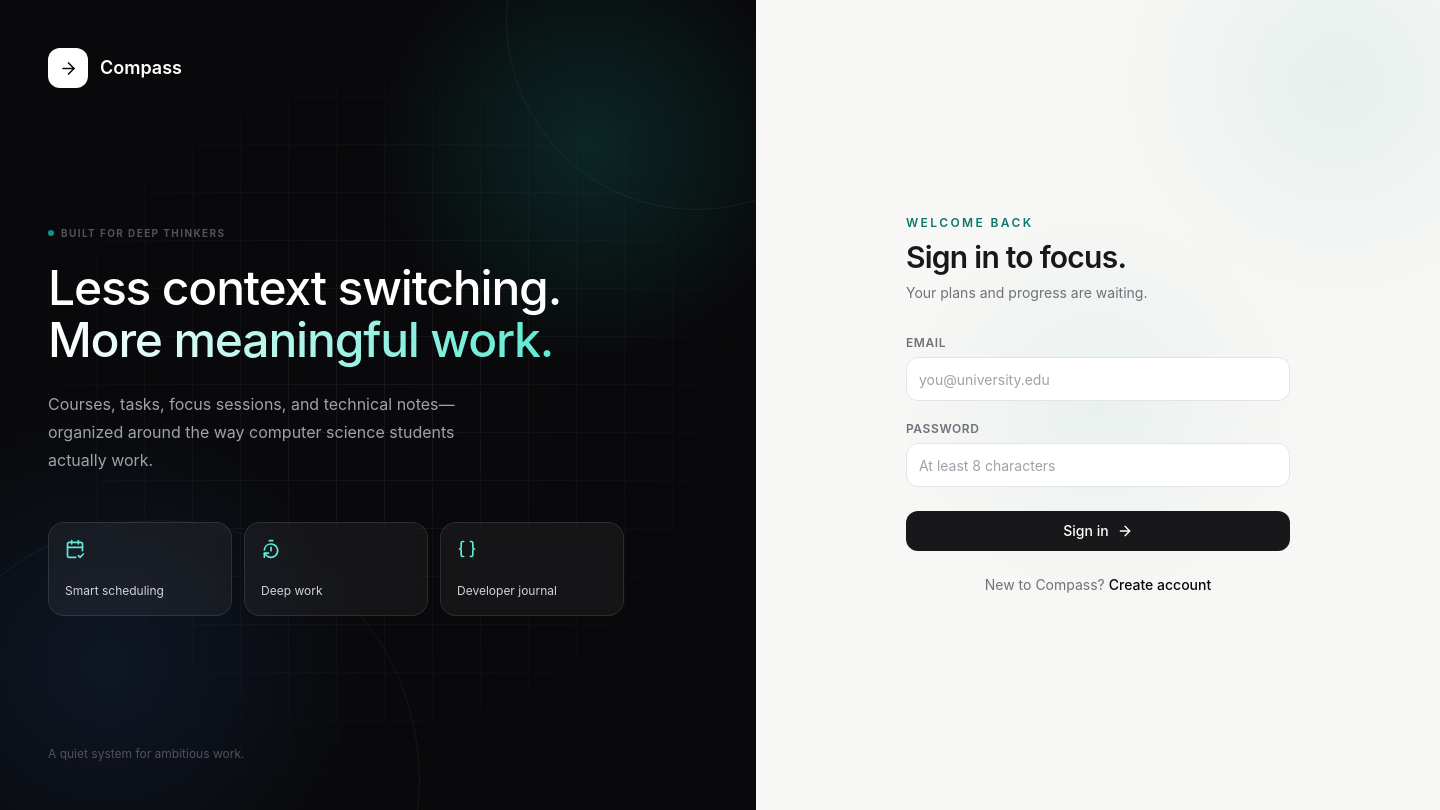
Test case: AuthPage › switches between sign in and account creation
Check: the heading "Sign in to focus." is shown, box [906,239,1126,275]
Click the button "Create account" at {"x": 1160, "y": 585}, box [1109,575,1211,595]
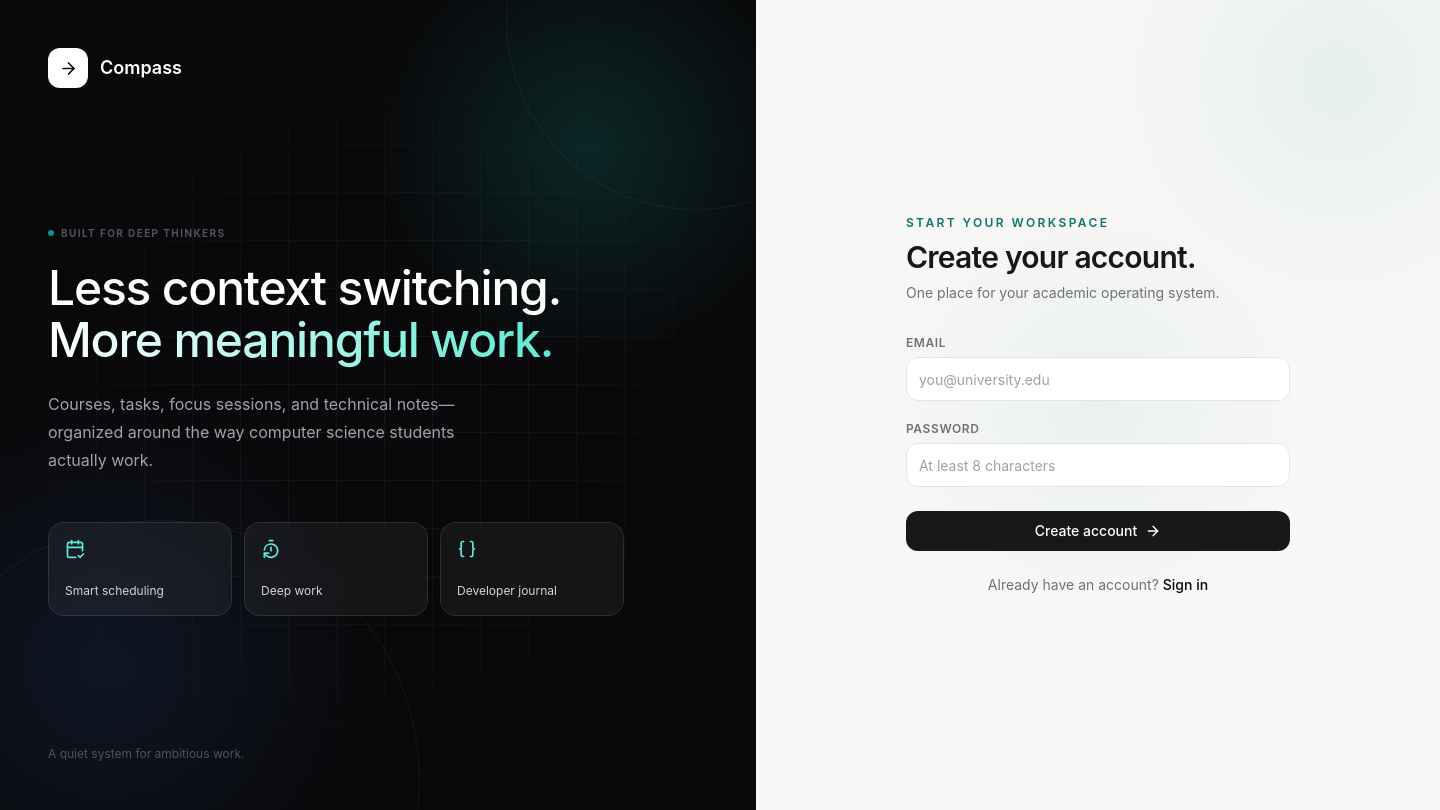
Check: the heading "Create your account." is shown, box [906,239,1196,275]
